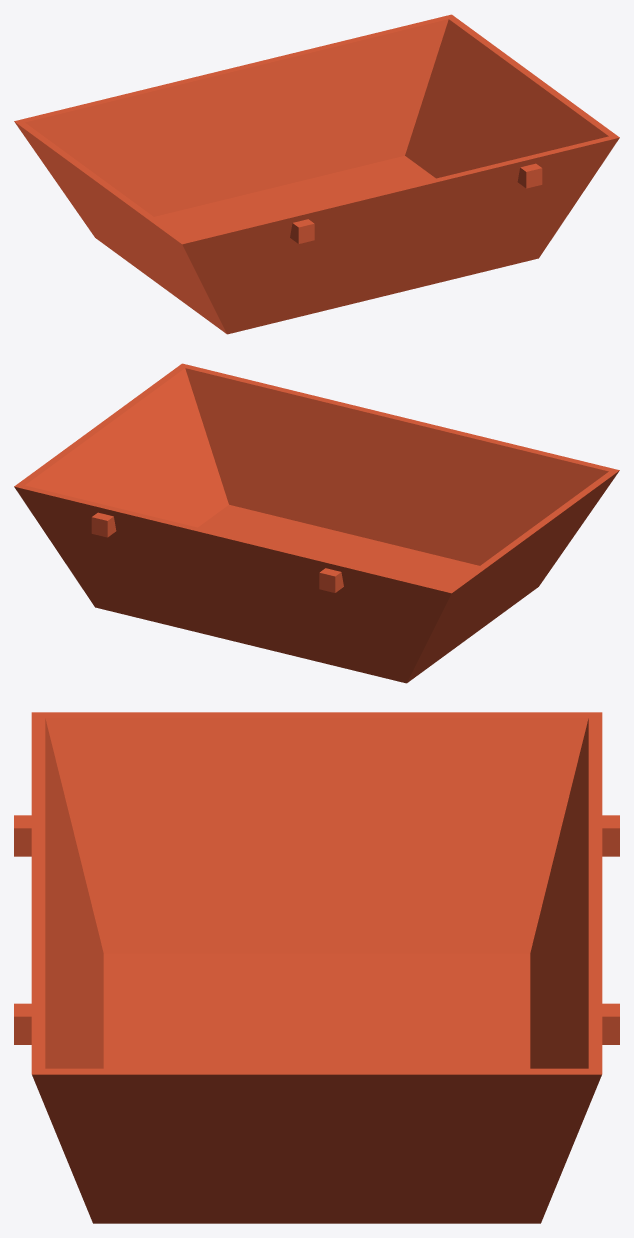
The model's file is JumboBin.fbx.
The picture shows the model from 3 angles, top to bottom: view 1: azimuth 30°, elevation 25°; view 2: azimuth 150°, elevation 25°; view 3: azimuth 270°, elevation 25°; orthographic projection. The views are drawn at different scales.
Visible parts, largest first — view 1: Cube.001; view 2: Cube.001; view 3: Cube.001.
Part boxes in pixels (bbox=[...]): Cube.001: bbox=[14, 14, 619, 334]; Cube.001: bbox=[14, 363, 619, 683]; Cube.001: bbox=[14, 712, 619, 1223].
Bounding box in the file's own units: 321 × 83.24 × 227.
